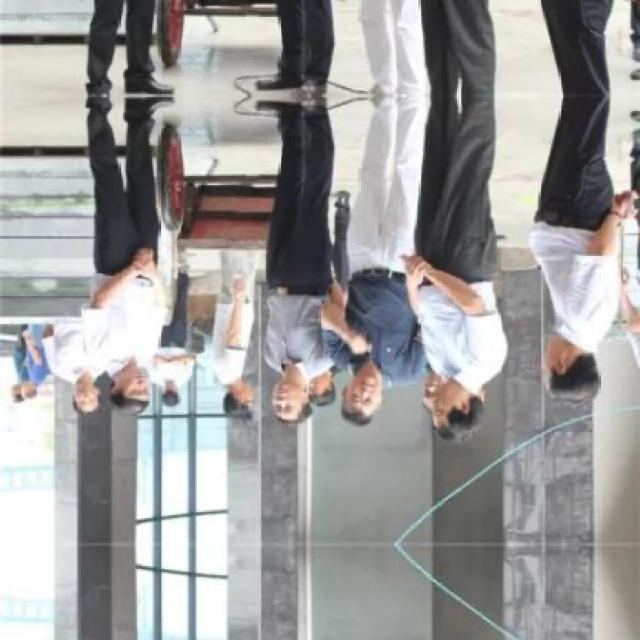sin casco: (508, 338, 607, 408), (389, 394, 466, 445), (100, 361, 173, 414), (320, 392, 381, 444), (55, 380, 117, 431), (278, 383, 314, 437), (212, 389, 263, 427)
